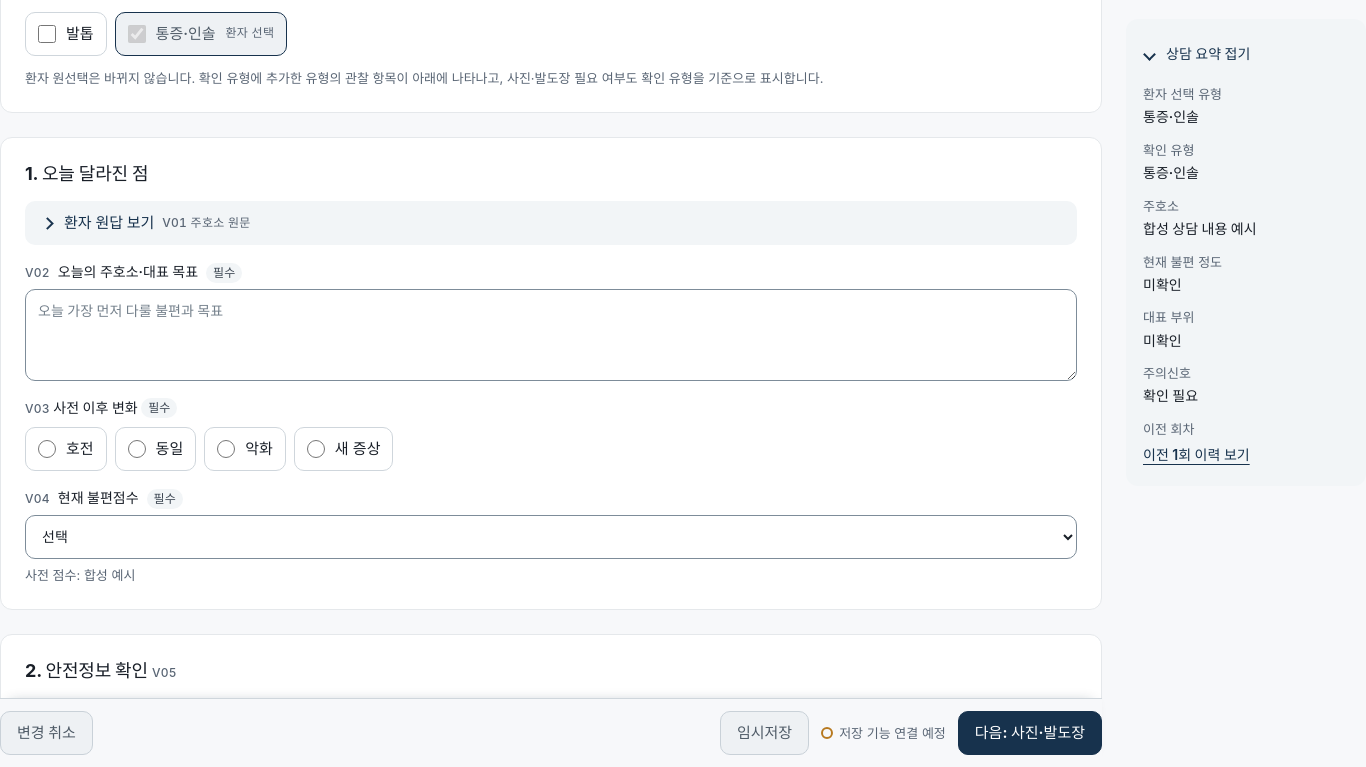
it: consultation work screen › asks before leaving with unsaved changes and never saves automatically
This screenshot has width=1366, height=767.
(page scrolled)
Type "합성 입력" into the text box labelled "V02 오늘의 주호소·대표 목표 필수" at {"x": 551, "y": 335}, box 25,289 -> 1077,381
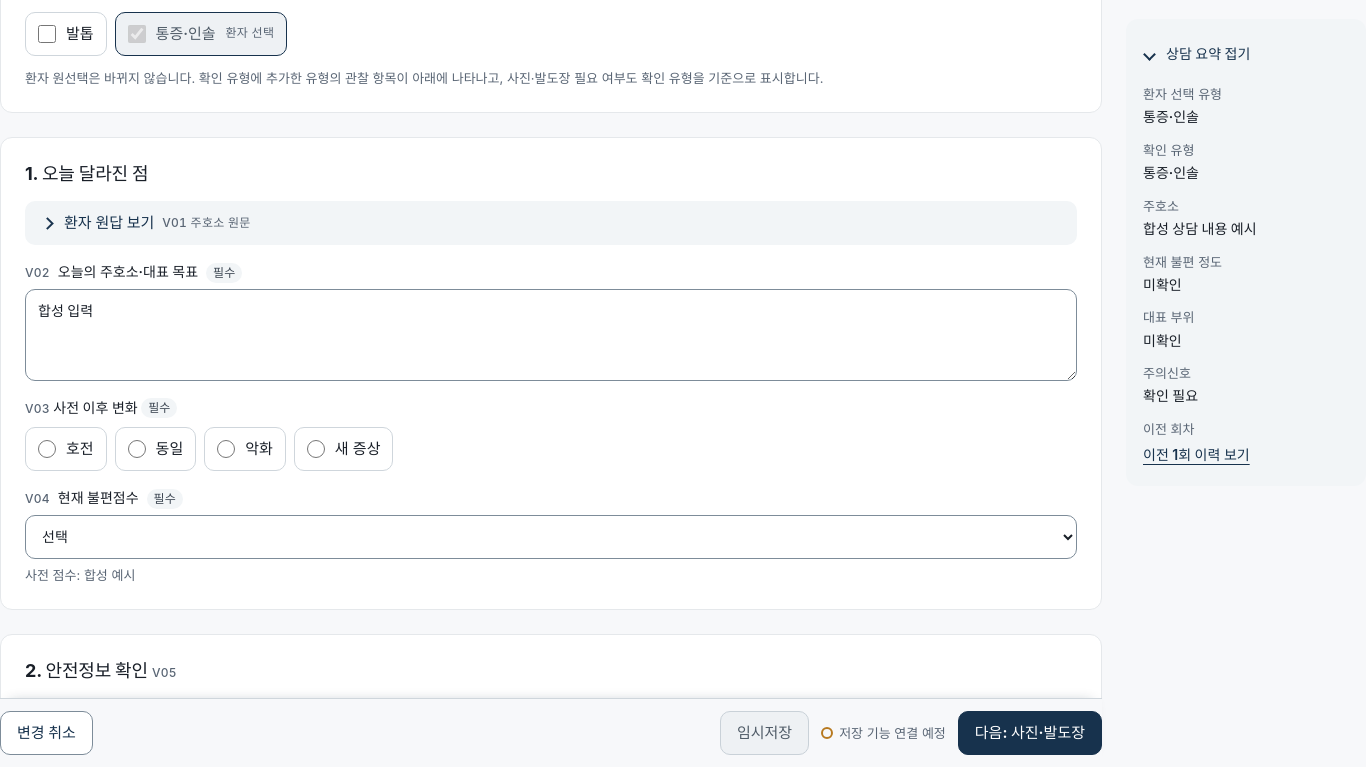
Click the link "다음: 사진·발도장" at {"x": 1030, "y": 733}, box 958,711 -> 1102,755
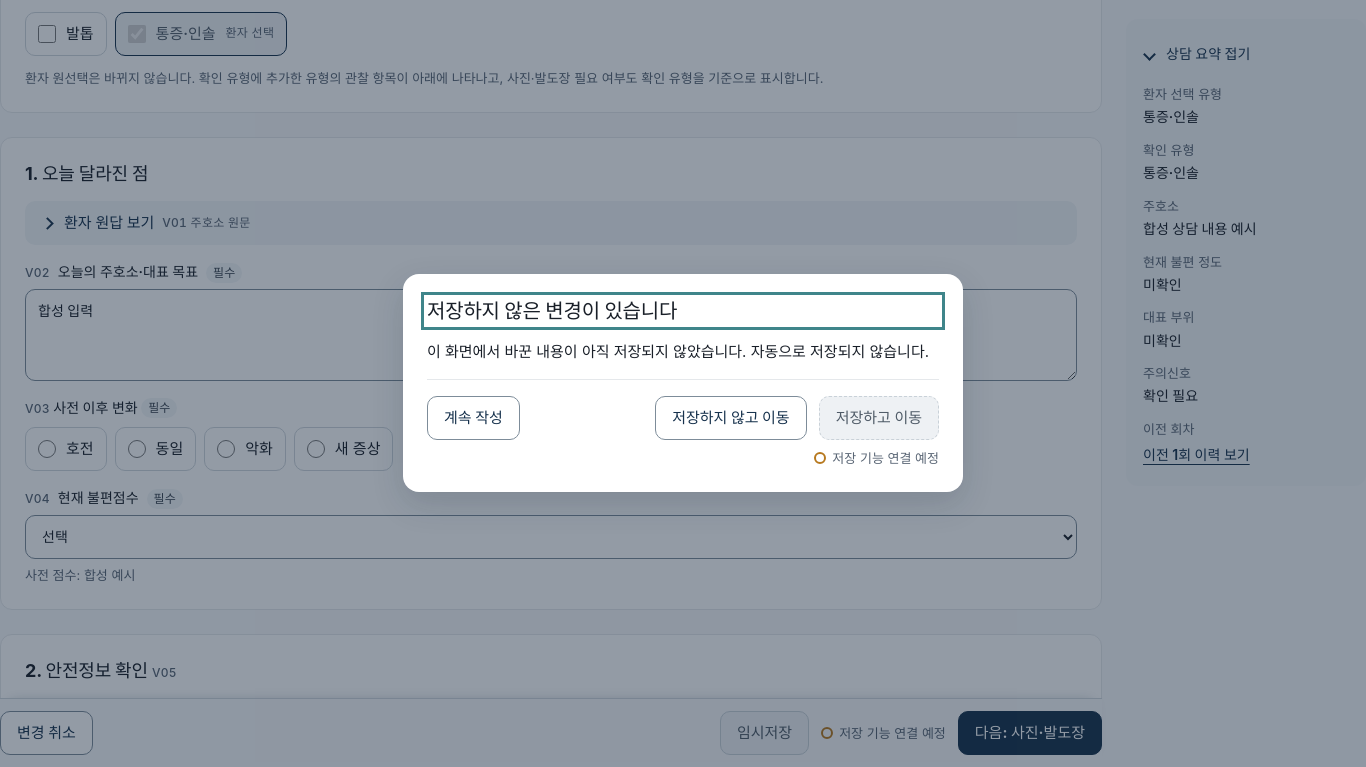
Check: the dialog shows "저장하지 않은 변경이 있습니다", box 427,299 -> 677,323
Click the button "저장하지 않고 이동" at {"x": 731, "y": 418}, box 655,396 -> 807,440
(page scrolled)
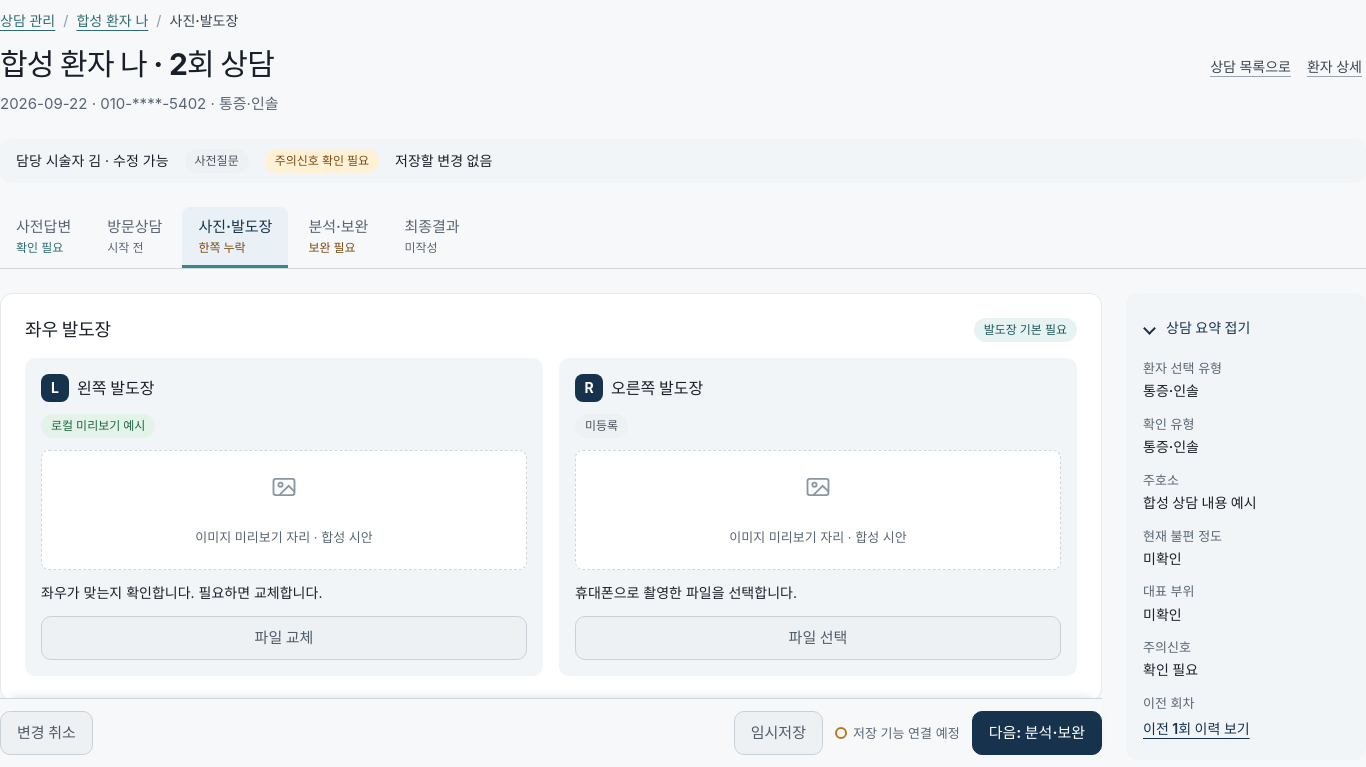
Check: the text with class "save-status" reads "저장할 변경 없음", box 395,152 -> 492,169
